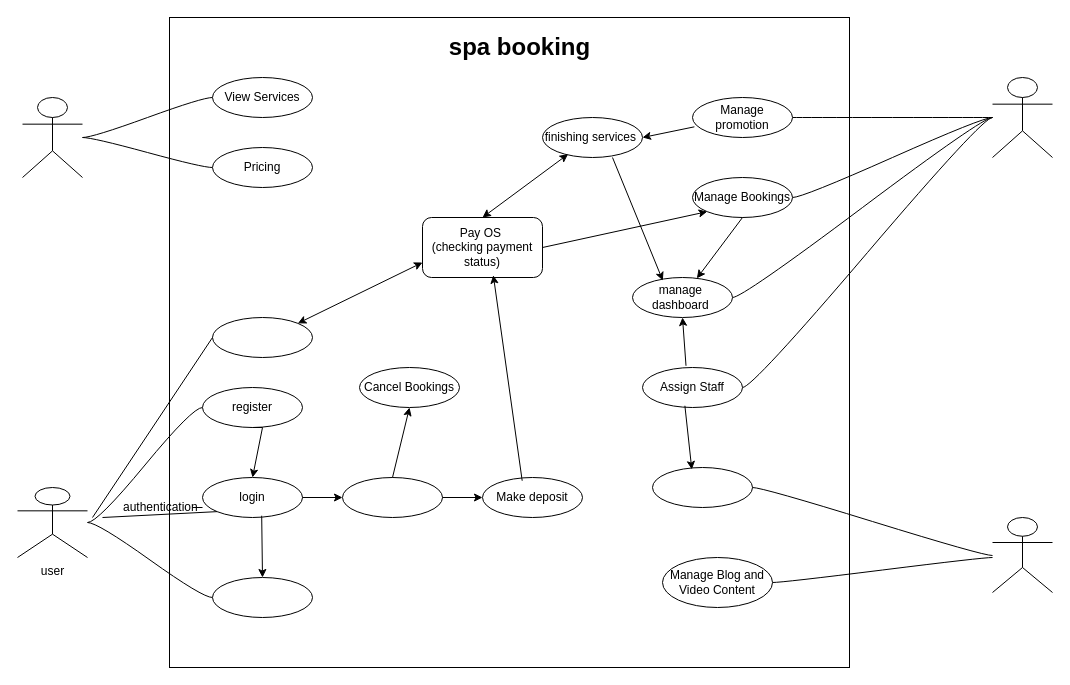
The diagram is 1070 pixels wide and 685 high, and some of its shapes have lost their labels. The centre of each missing label's shape, as x and y in pixels:
"admin" belongs at [1022,117].
"Book a Service" belongs at [392,497].
"guest" belongs at [52,137].
"Manage Profile" belongs at [262,597].
"payments" belongs at [262,337].
"staff" belongs at [1022,554].
"View Work Schedule" belongs at [702,487].
